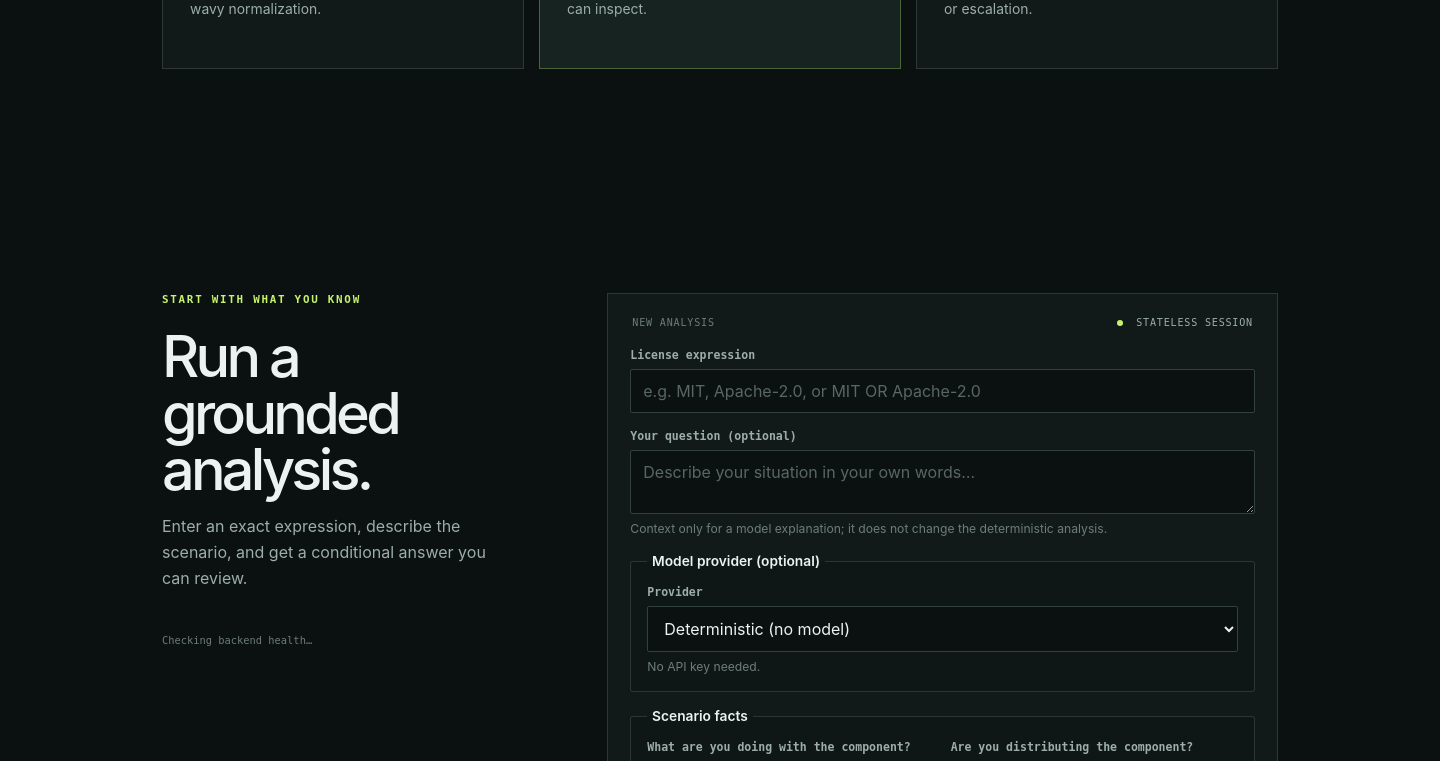
Test case: analysis experience › renders a missing-facts prompt when the outcome depends on unknown facts
The image size is (1440, 761).
(page scrolled)
Type "Apache-2.0" into the field labelled "License expression" at (943, 391), box [630,369,1255,413]
(page scrolled)
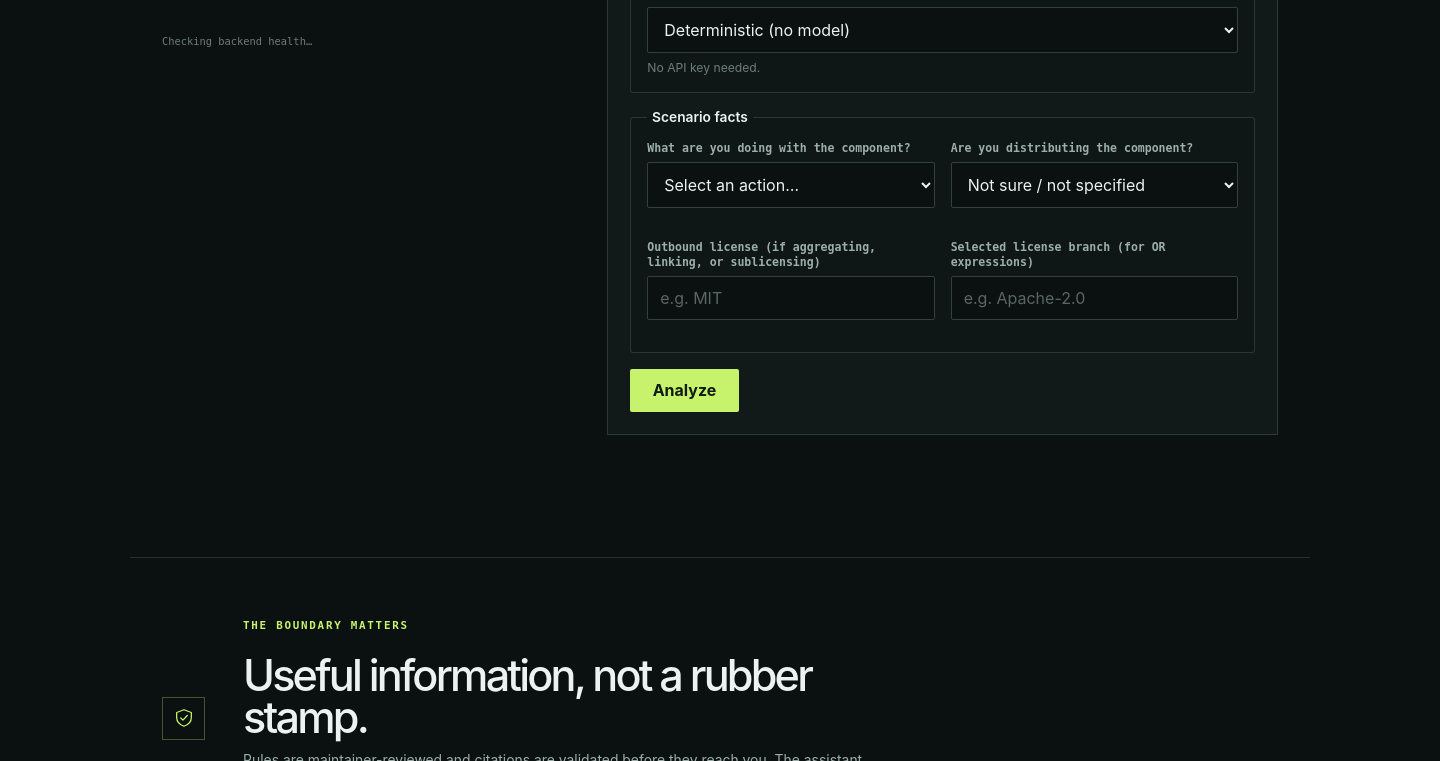
Click the button "Analyze" at (685, 390), box [630,369,739,412]
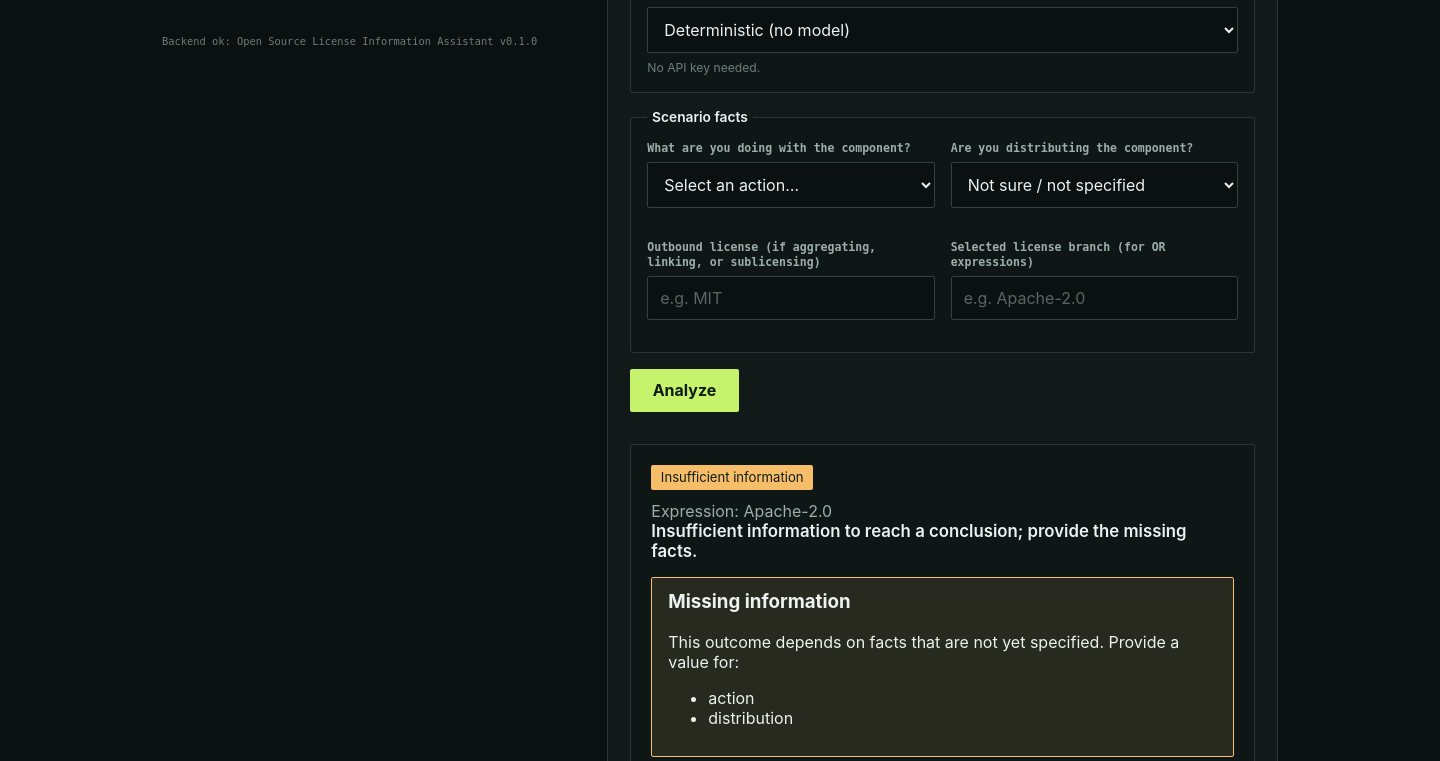
Expected: the message that starts with "Missing information" is shown, [668,590,851,614]
Expected: the list item "action" is shown, [708,688,755,708]
Expected: the list item "distribution" is shown, [708,708,793,728]
